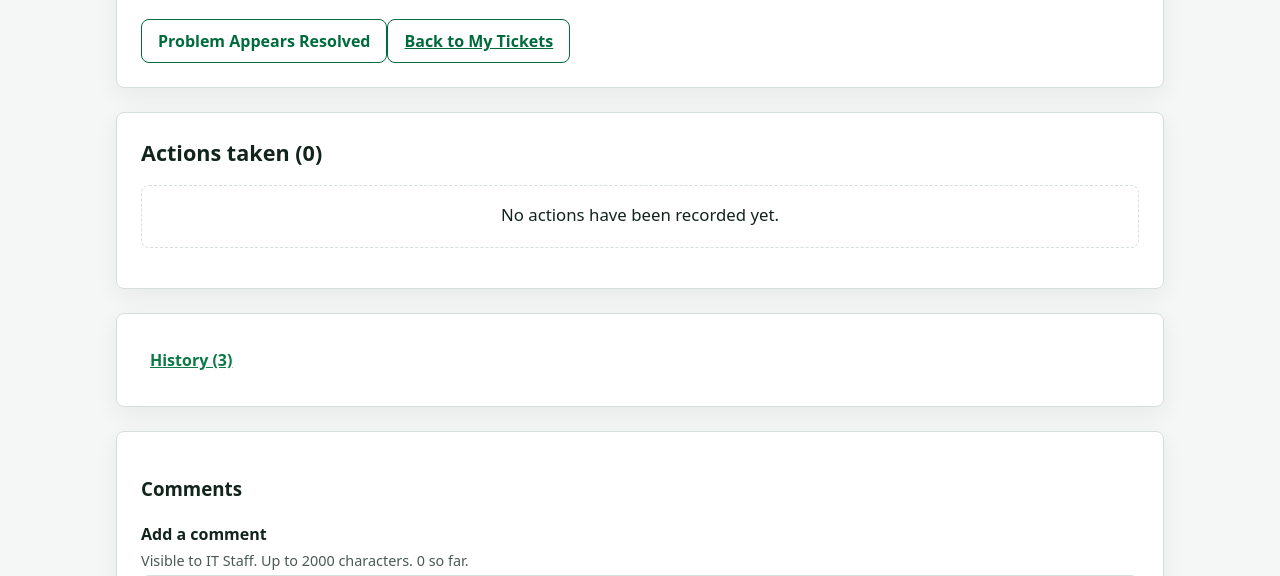
Scenario: UI-04 the History disclosure › is on the Requester's Ticket Detail too
(page scrolled)
Click the button "History (3)". click: {"x": 191, "y": 360}
box: x1=141 y1=338 x2=242 y2=382
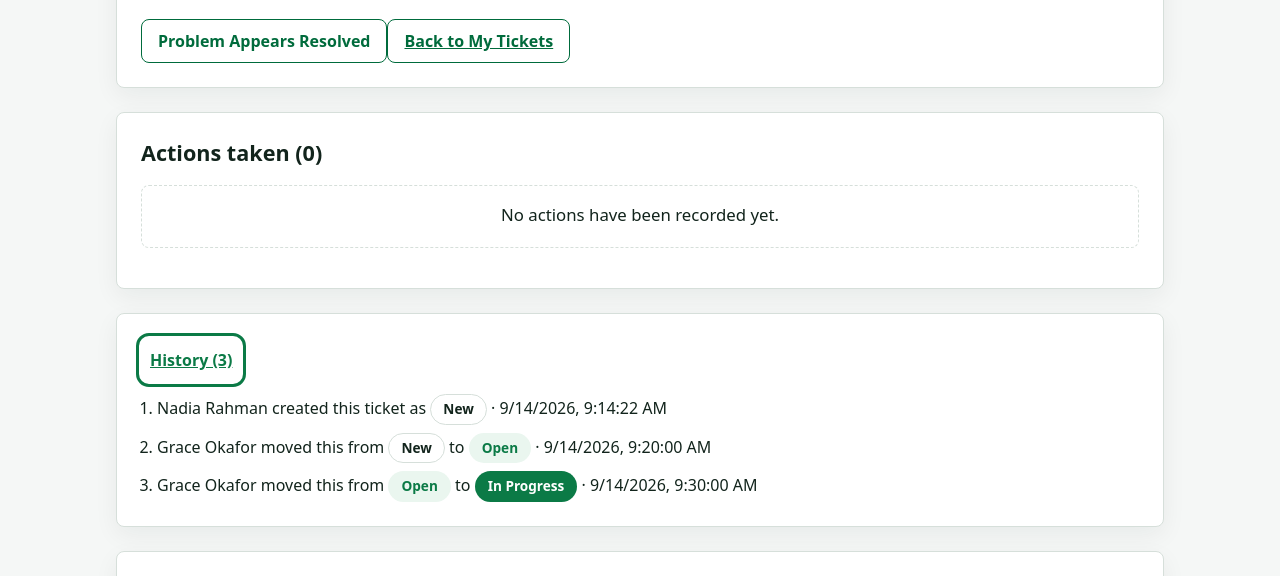
Check: the list item "Nadia Rahman created this ticket as" is shown, box x1=157 y1=394 x2=667 y2=425
